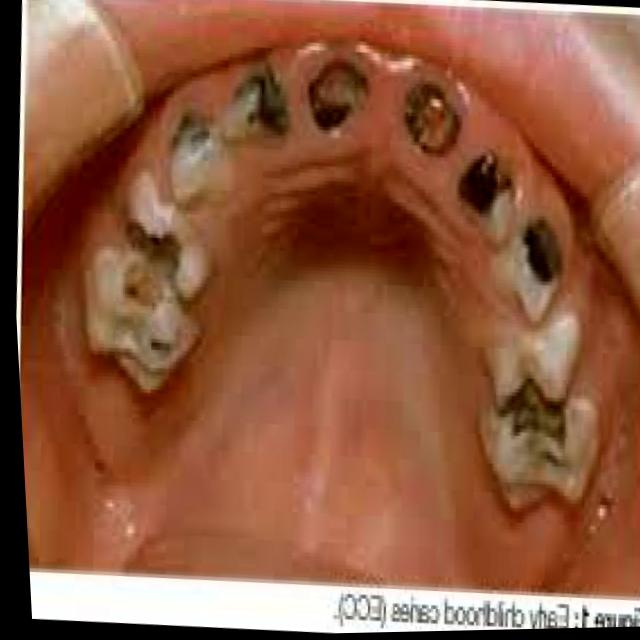cariess: (87, 43, 323, 389), (403, 74, 561, 310), (515, 312, 580, 492), (309, 58, 368, 127)
